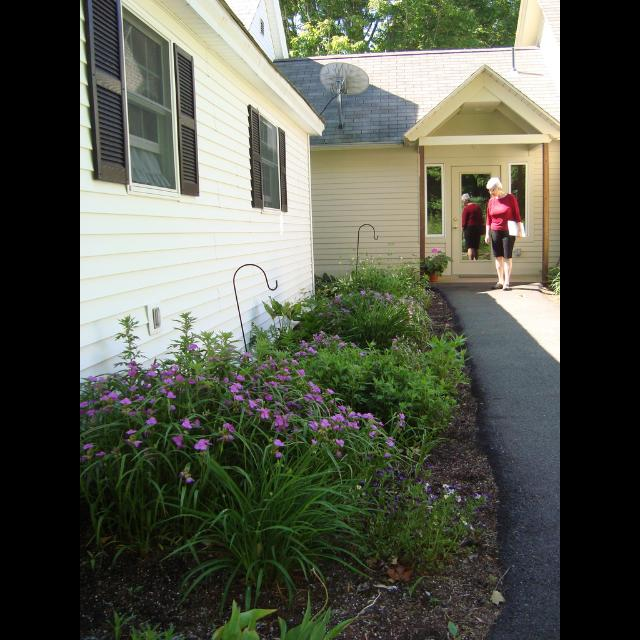Flower: (80, 342, 404, 460), (373, 464, 481, 530), (318, 287, 412, 321), (179, 471, 195, 484), (192, 438, 206, 452), (432, 245, 440, 252)
